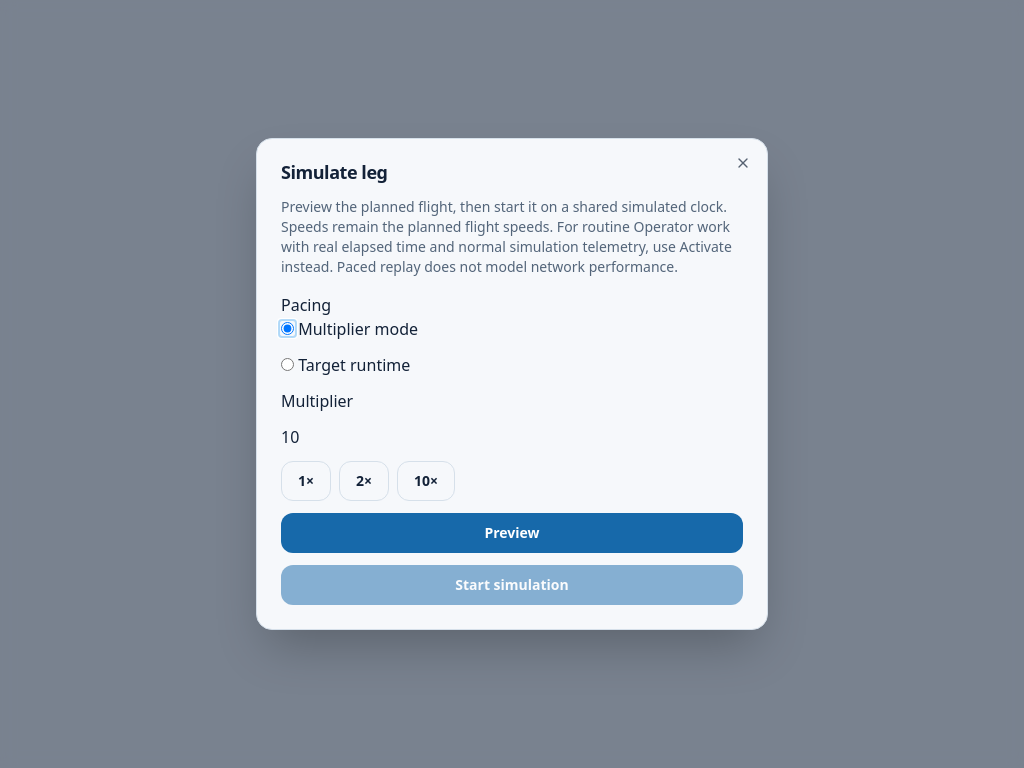
Test: ignores obsolete preview responses after changing the input
Step 1. Click the button "Preview" → (512, 533), box [281, 513, 743, 553]
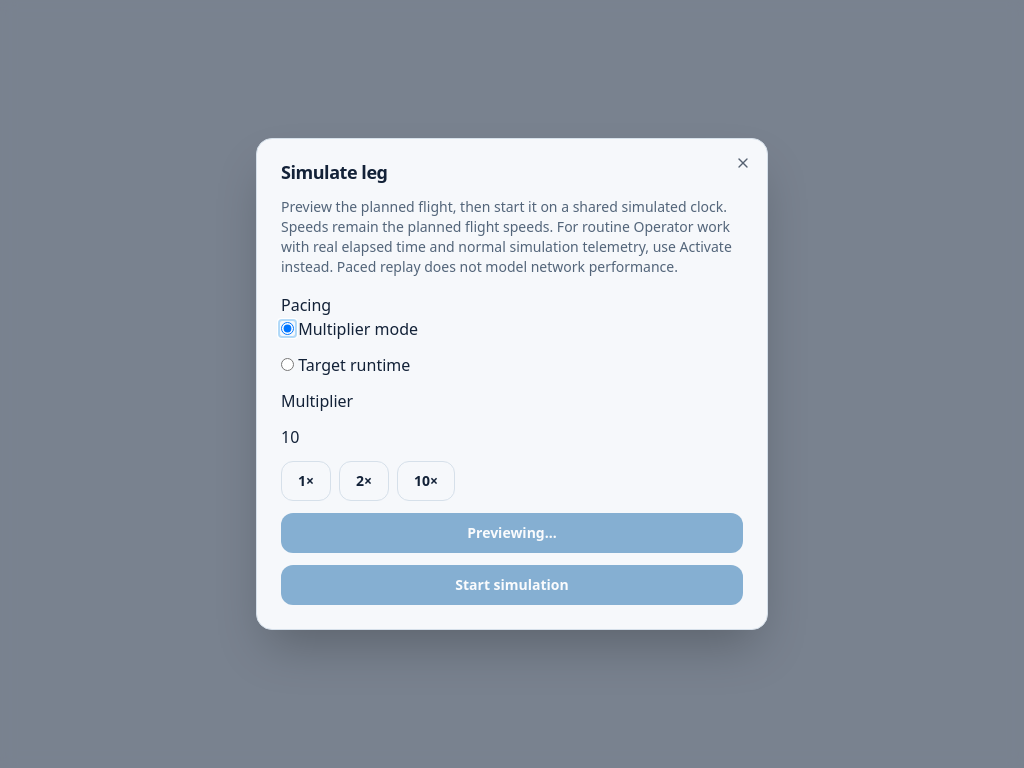
Step 2. Replace the text in the number field labelled "Multiplier" with "2" → (512, 437), box [281, 425, 743, 449]
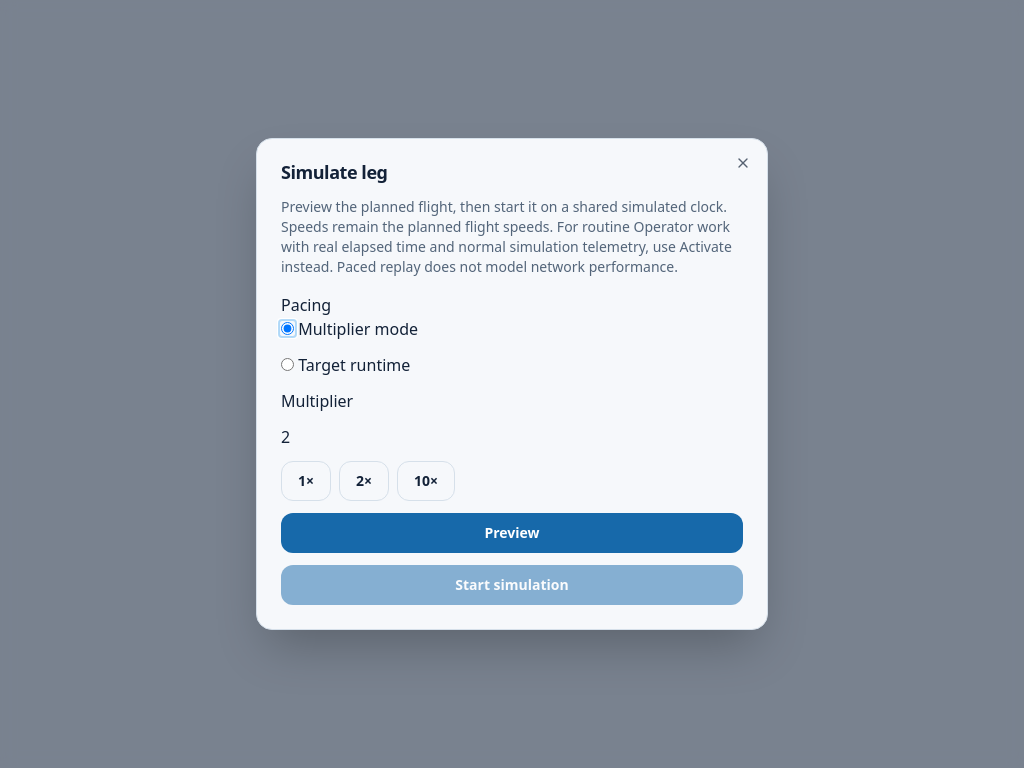
Expected: the button "Start simulation" is disabled, [281, 565, 743, 605]
Now the button "Preview" is enabled, box [281, 513, 743, 553]
